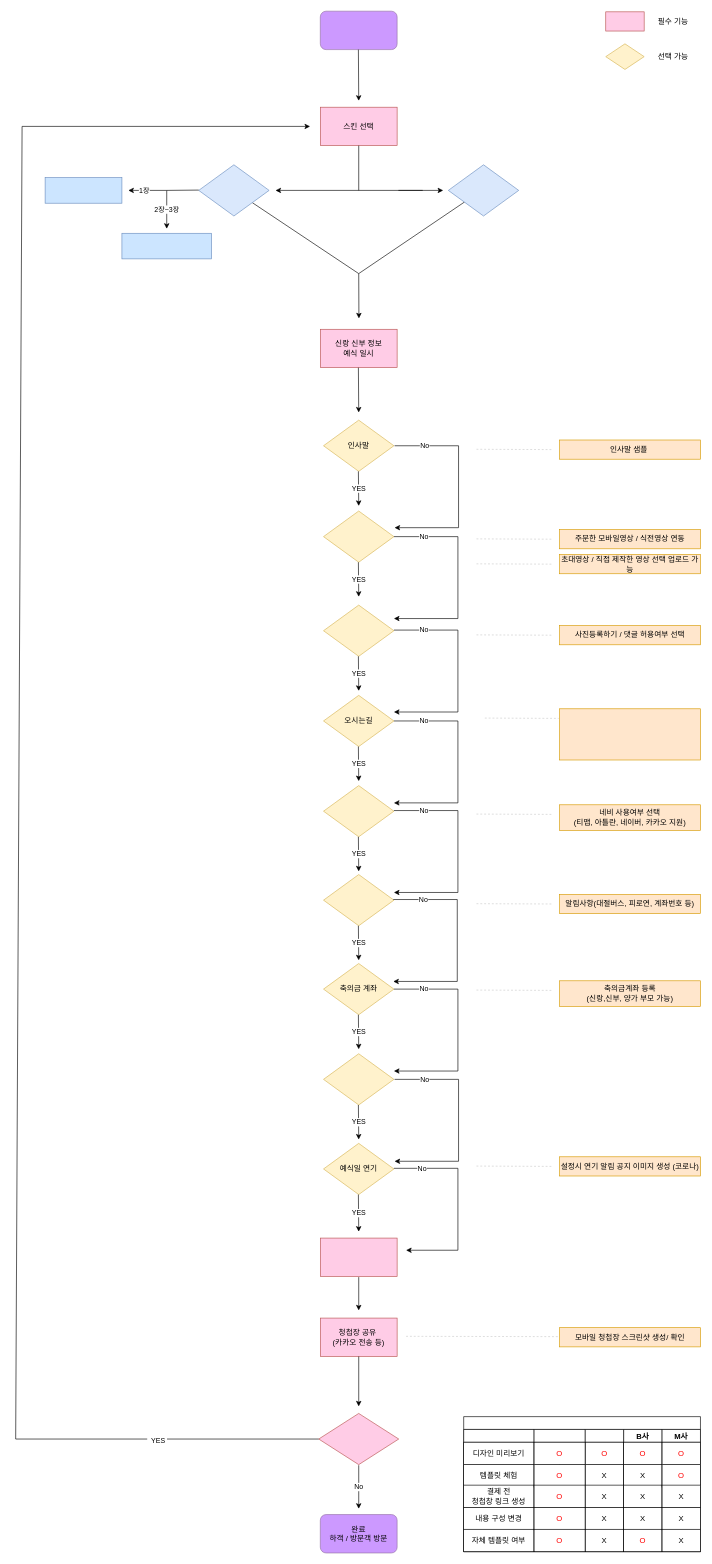
Image size: 712x1564. Some labels were removed from this diagram. The shapes that lost their labels are listed below. From the top down, each one's box as (x1, y1, x2, y2) in pixels, then its label:
(320, 11, 397, 50): 모바일 청첩장 제작
(44, 177, 122, 203): 적용되는 효과없음
(198, 164, 269, 216): 사진 O
(448, 164, 519, 216): 사진 X
(121, 233, 212, 259): 사진전환 효과 선택 미 선택시 페이드 기본선택
(323, 510, 394, 562): 비디오
(323, 604, 394, 656): 포토
(559, 708, 700, 760): 약도첨부 - 보자기 제작 약도(무료) 온라인 지도 표시 직접 약도 이미지 업로드
(323, 785, 394, 837): 네비게이션 설정
(323, 874, 394, 926): 알림사항
(323, 1053, 394, 1105): 축하메시지
(320, 1237, 397, 1276): 완료하기 (모바일 청첩장 제작)
(318, 1413, 399, 1465): 설정완료 (청첩장 수정)
(463, 1429, 534, 1552): 내용
(533, 1429, 585, 1552): 보자기카드
(463, 1416, 700, 1552): 모바일 청첨장 결제전 체험 가능 여부 비교
(585, 1429, 624, 1552): C 사
